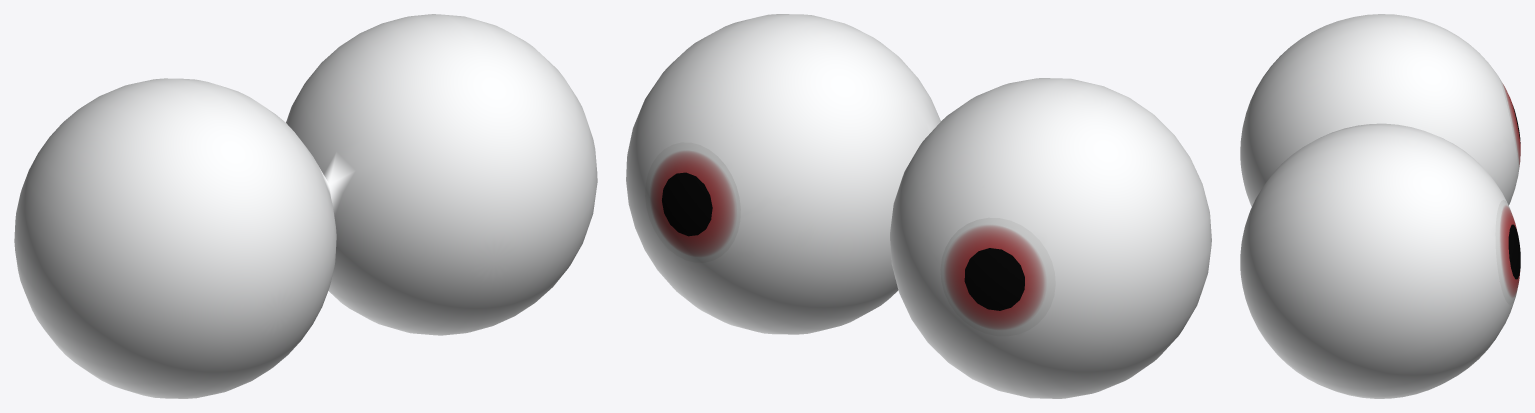
File: lwjglcharactergoblineyes.obj
3 renders of one model, left to right at view 1: azimuth 30°, elevation 25°; view 2: azimuth 150°, elevation 25°; view 3: azimuth 270°, elevation 25°, orthographic. The views are drawn at different scales.
Parts seen in each view (by area): view 1: Sphere; view 2: Sphere; view 3: Sphere.
Part boxes in pixels (x1,y1,x2,y2): Sphere: [14, 14, 597, 398]; Sphere: [626, 14, 1211, 398]; Sphere: [1240, 14, 1520, 398].
Size of the model in its own units: 0.6187 by 0.3181 by 0.3245.
